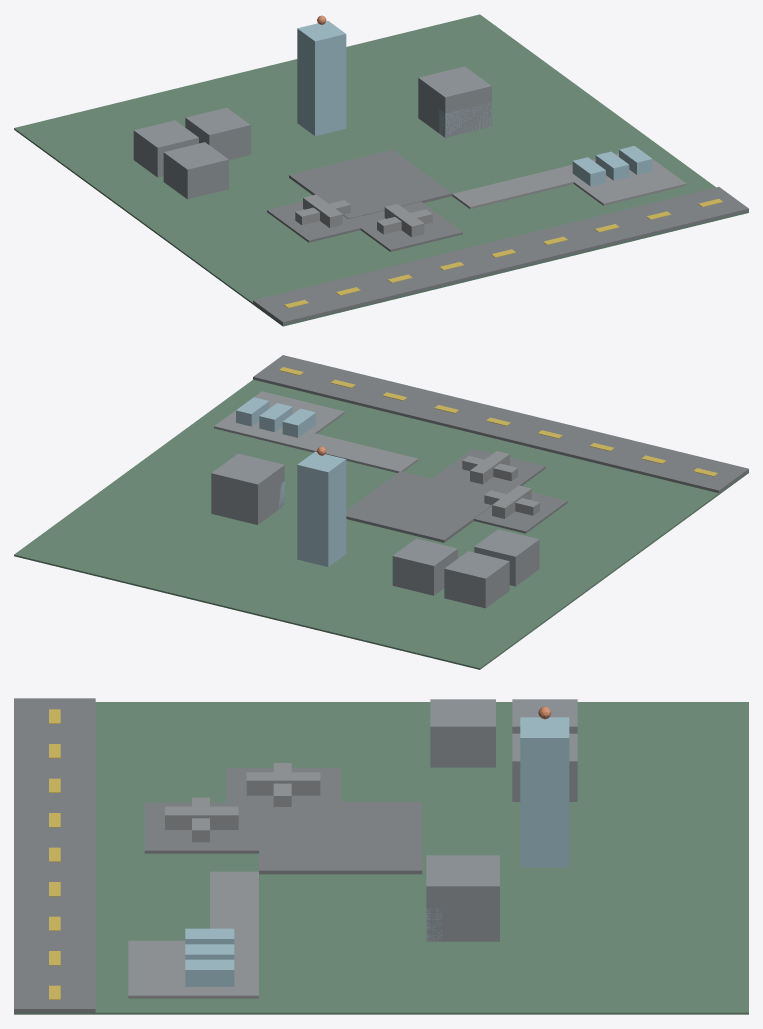
Rendered from stage_10.glb.
3 renders of one model, top to bottom at view 1: azimuth 30°, elevation 25°; view 2: azimuth 150°, elevation 25°; view 3: azimuth 270°, elevation 25°, orthographic. The views are drawn at different scales.
Parts seen in each view (by area): view 1: geometry_0; view 2: geometry_0; view 3: geometry_0.
Part boxes in pixels (x1,y1,x2,y2): geometry_0: [14, 14, 748, 326]; geometry_0: [14, 355, 748, 669]; geometry_0: [14, 698, 748, 1014].
Size of the model in its own units: 9 by 2.06 by 9.
